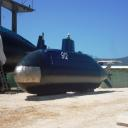submarine: (15, 40, 114, 97), (1, 26, 48, 75)
